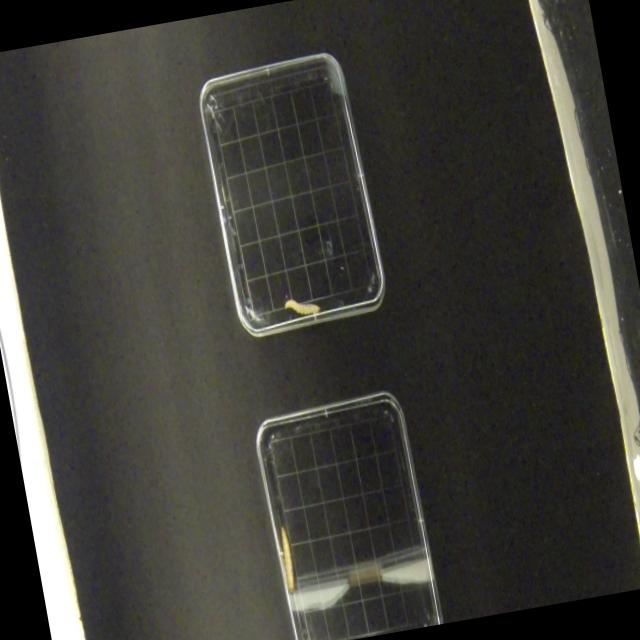larva: (275, 524, 300, 590), (282, 292, 321, 321)
